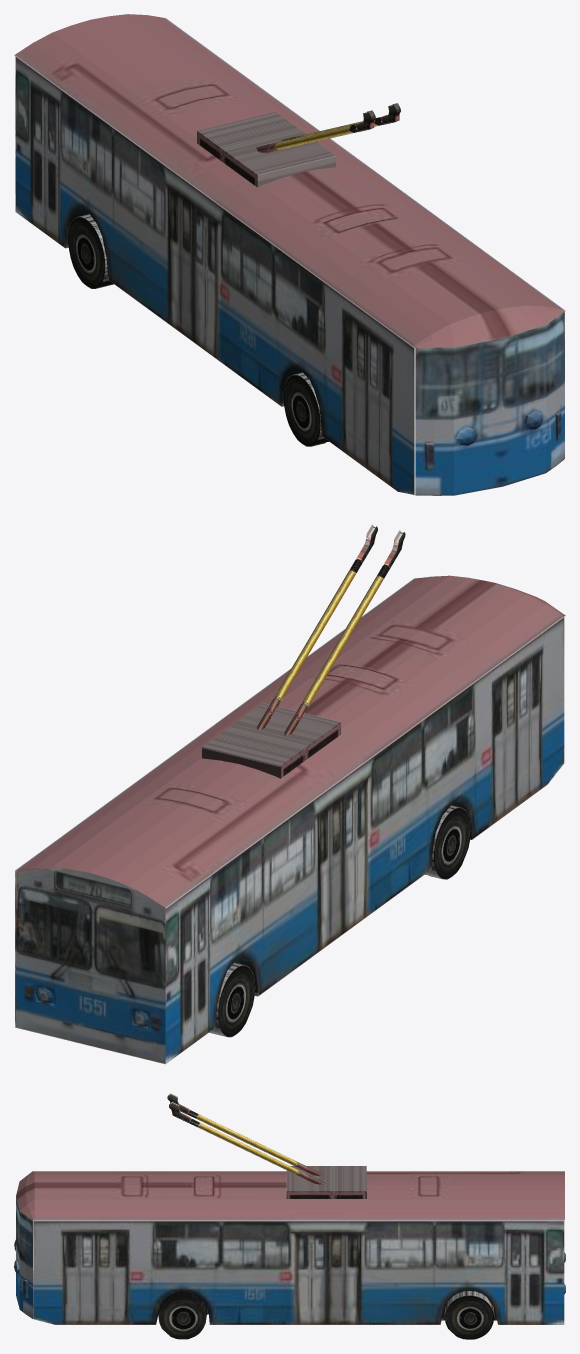
File: trolley.glb
The picture shows the model from 3 angles, top to bottom: view 1: azimuth 30°, elevation 25°; view 2: azimuth 150°, elevation 25°; view 3: azimuth 270°, elevation 25°; orthographic projection. The views are drawn at different scales.
Visible parts, largest first — view 1: bl_Material_018_0; view 2: bl_Material_018_0; view 3: bl_Material_018_0.
Part boxes in pixels (bbox=[...]): bl_Material_018_0: bbox=[14, 14, 565, 495]; bl_Material_018_0: bbox=[15, 524, 565, 1064]; bl_Material_018_0: bbox=[14, 1093, 565, 1339].
Bounding box in the file's own units: 2.54 × 5.19 × 12.
1 material, 1 textured.
